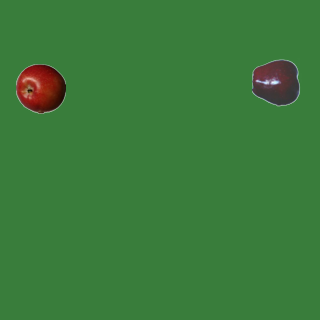Apple Braeburn: (15, 63, 65, 113)
Apple Red Delicious: (251, 57, 301, 107)
